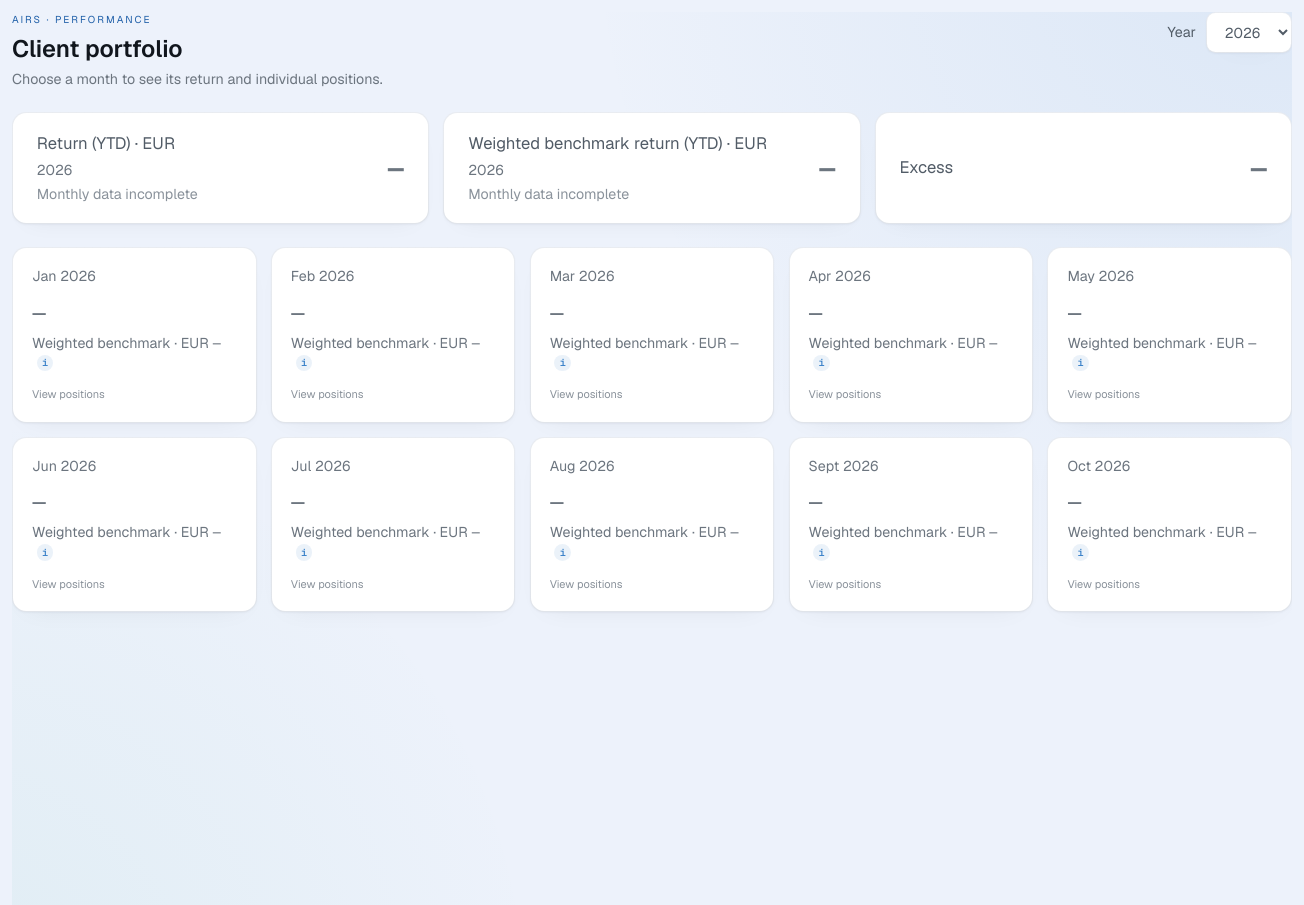
Test: AIRS monthly report › automatically loads missing results on selection without fabricating zero returns
This screenshot has width=1304, height=905.
Click the button "Oct 2026 — Weighted benchmark · EUR — i View positions" at (1170, 524), box x1=1047 y1=437 x2=1292 y2=612
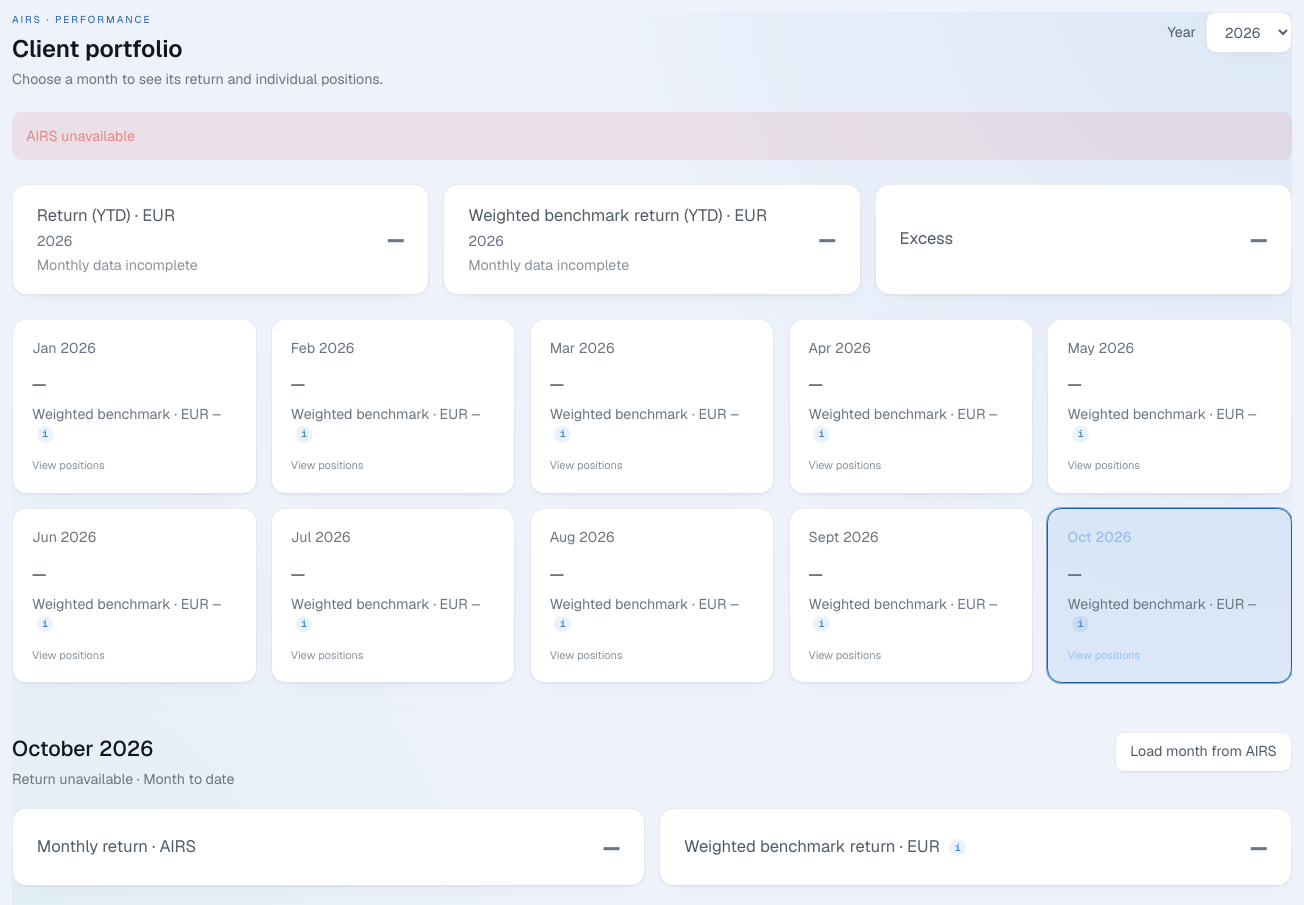
Result: the text "Return unavailable" is shown at x1=12 y1=770 x2=133 y2=788
